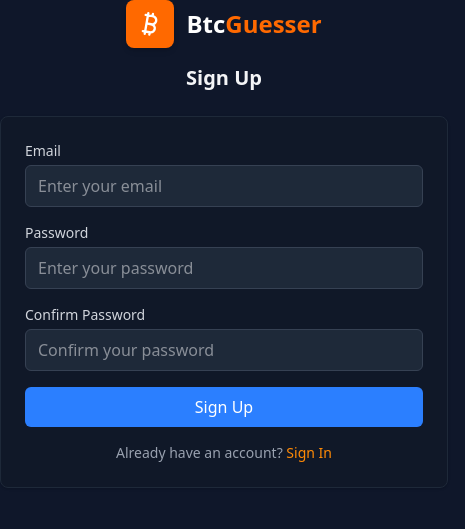
Test: SignUpForm › rendering › should show confirmation code input when needsConfirmation is true
This screenshot has width=465, height=529.
Type "test@example.com" into the field labelled "Email" at (224, 186), box [25,165,423,207]
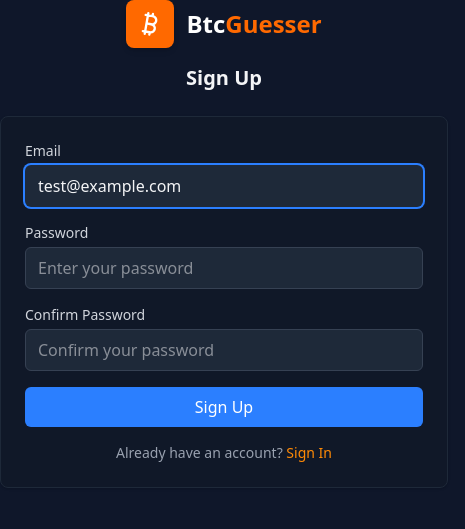
Type "Password123!" into the password field labelled "Password" at (224, 268), box [25,247,423,289]
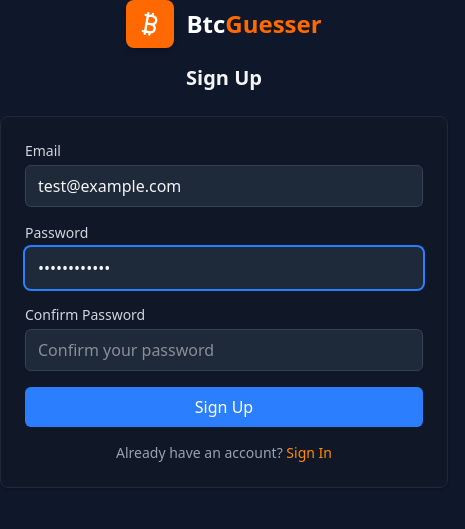
Type "Password123!" into the password field labelled "Confirm Password" at (224, 350), box [25,329,423,371]
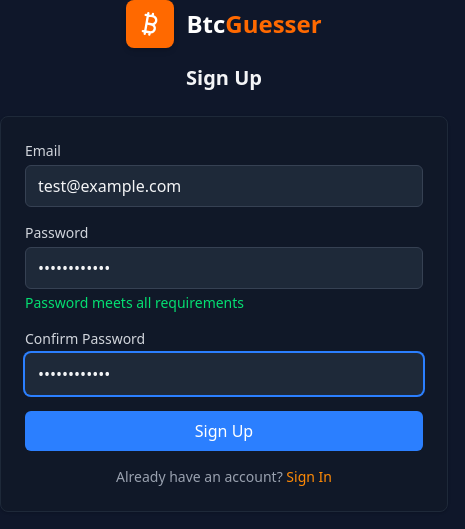
Click the button "Sign Up" at (224, 431), box [25,411,423,451]
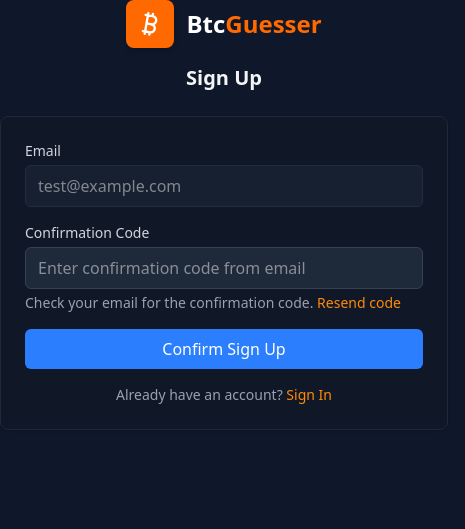
Expected: the field labelled "Confirmation Code" is shown, [25,247,423,289]
Expected: the label labelled "Password" is gone
Expected: the label labelled "Confirm Password" is gone
